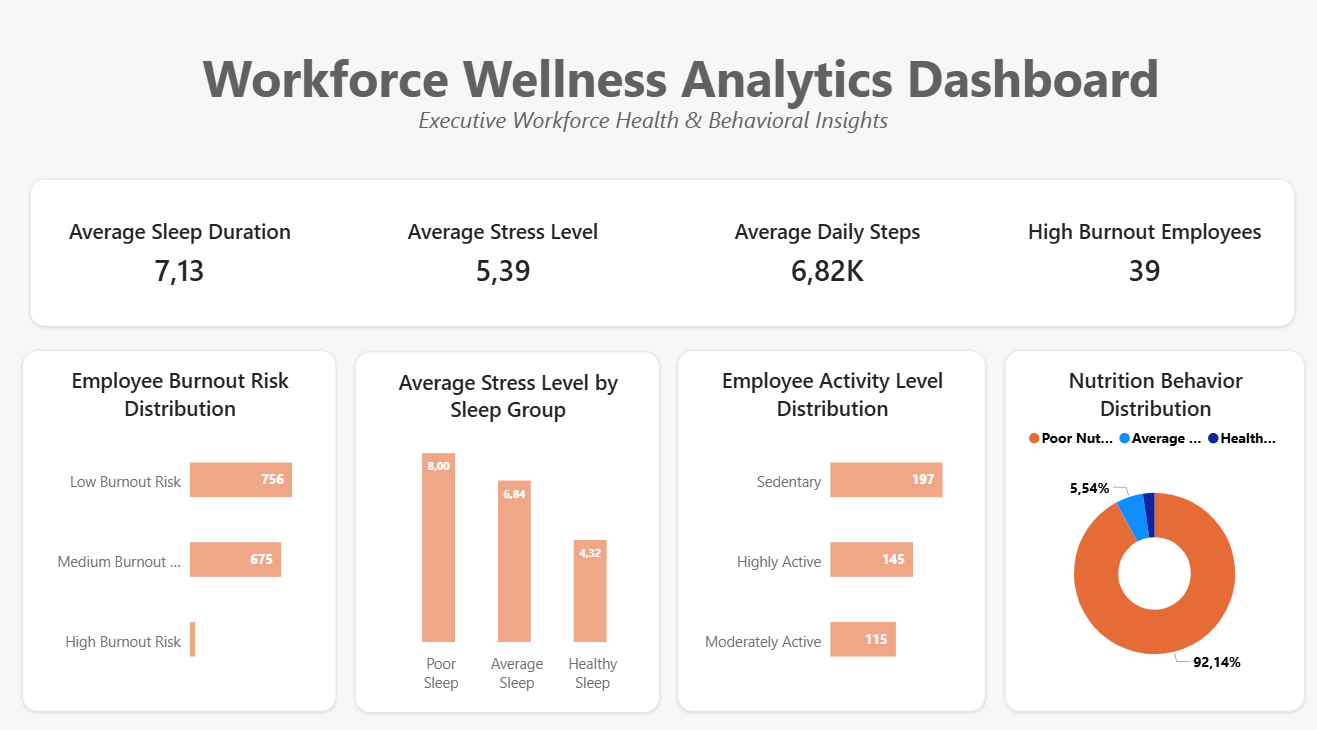

What the dashboard file says about the page in this screenshot:
{"tool":"powerbi","page":{"name":"Page 1","canvas":[1280,720],"ordinal":0},"visuals":[{"type":"shape","box":[32.6,178.6,1220.9,142.4],"z":0},{"type":"card","title":"Average Sleep Duration","fields":{"Values":["Avg(vw_sleep_analysis.Sleep_Duration)"]},"box":[37.4,200.3,279.9,108.6],"z":1000},{"type":"card","title":"Average Stress Level","fields":{"Values":["Avg(vw_sleep_analysis.Stress_Level)"]},"box":[348.7,200.3,281.1,108.6],"z":2000},{"type":"card","title":"Average Daily Steps","fields":{"Values":["Avg(vw_sleep_analysis.Daily_Steps)"]},"box":[662.3,200.3,279.9,108.6],"z":3000},{"type":"card","title":"High Burnout Employees","fields":{"Values":["CountNonNull(vw_burnout_risk.Burnout_Risk)"]},"box":[973.9,200.5,269.8,108.2],"z":4000},{"type":"clusteredBarChart","title":"Employee Burnout Risk Distribution","fields":{"Category":["vw_burnout_risk.Burnout_Risk"],"Y":["CountNonNull(vw_burnout_risk.Burnout_Risk)"]},"box":[25.3,343.8,302.8,348.7],"z":5000},{"type":"clusteredColumnChart","title":"Average Stress Level by Sleep Group","fields":{"Category":["vw_sleep_analysis.Sleep_Group"],"Y":["Avg(vw_sleep_analysis.Stress_Level)"]},"box":[345.8,345,294.4,348.7],"z":6000},{"type":"clusteredBarChart","title":"Employee Activity Level Distribution","fields":{"Category":["vw_activity_analysis.Activity_Level"],"Y":["CountNonNull(vw_activity_analysis.Activity_Level)"]},"box":[657.9,343.8,298,348.7],"z":7000},{"type":"donutChart","title":"Nutrition Behavior Distribution","fields":{"Category":["vw_nutrition_analysis.Nutrition_Group"],"Y":["CountNonNull(vw_nutrition_analysis.Nutrition_Group)"]},"box":[973.6,343.8,289.5,348.7],"z":8000},{"type":"textbox","box":[199.1,47.1,966.4,63.9],"z":9000},{"type":"textbox","box":[407.8,106.2,757.6,42.2],"z":10000}]}

Visuals, with their boxes in screenshot pixels (x1, y1, x2, y2), scaled from the page's 1280x720 canvas onto the 1317x730 screenshot:
shape: (left=34, top=181, right=1290, bottom=325)
"Average Sleep Duration" card: (left=38, top=203, right=326, bottom=313)
"Average Stress Level" card: (left=359, top=203, right=648, bottom=313)
"Average Daily Steps" card: (left=681, top=203, right=969, bottom=313)
"High Burnout Employees" card: (left=1002, top=203, right=1280, bottom=313)
"Employee Burnout Risk Distribution" clusteredBarChart: (left=26, top=349, right=338, bottom=702)
"Average Stress Level by Sleep Group" clusteredColumnChart: (left=356, top=350, right=659, bottom=703)
"Employee Activity Level Distribution" clusteredBarChart: (left=677, top=349, right=984, bottom=702)
"Nutrition Behavior Distribution" donutChart: (left=1002, top=349, right=1300, bottom=702)
textbox: (left=205, top=48, right=1199, bottom=113)
textbox: (left=420, top=108, right=1199, bottom=150)
